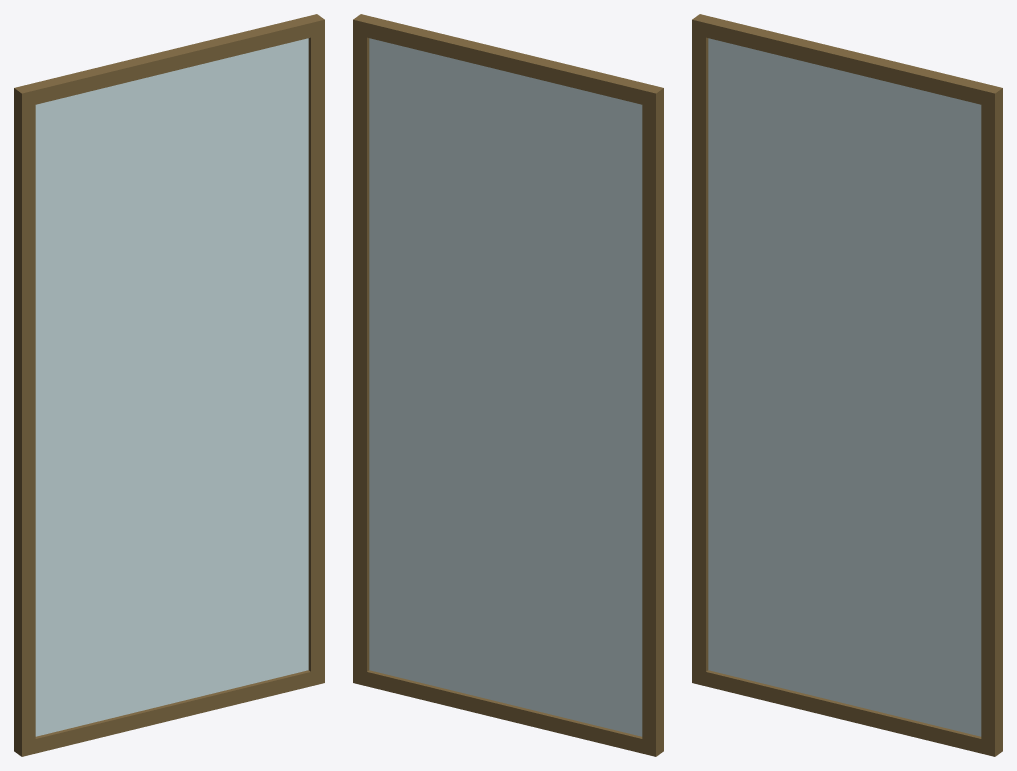
The model's file is Itr_Obj_Grandfatherclock2_Glass_Big_01.FBX.
3 views of the same model, side by side, from view 1: azimuth 30°, elevation 25°; view 2: azimuth 150°, elevation 25°; view 3: azimuth 330°, elevation 25° (orthographic).
Parts seen in each view (by area): view 1: Itr_Obj_Grandfatherclock2_Glass_Big_01; view 2: Itr_Obj_Grandfatherclock2_Glass_Big_01; view 3: Itr_Obj_Grandfatherclock2_Glass_Big_01.
Boxes of the visible parts, <box> form: Itr_Obj_Grandfatherclock2_Glass_Big_01: <box>14,14,324,756</box>; Itr_Obj_Grandfatherclock2_Glass_Big_01: <box>353,14,663,756</box>; Itr_Obj_Grandfatherclock2_Glass_Big_01: <box>692,14,1002,756</box>.
Size of the model in its own units: 15.68 by 32.8 by 0.694.
